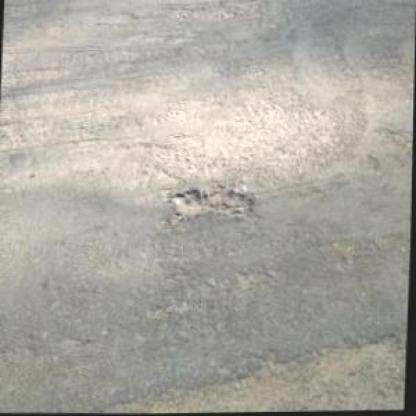pothole: (81, 327, 408, 413), (165, 184, 255, 224)
